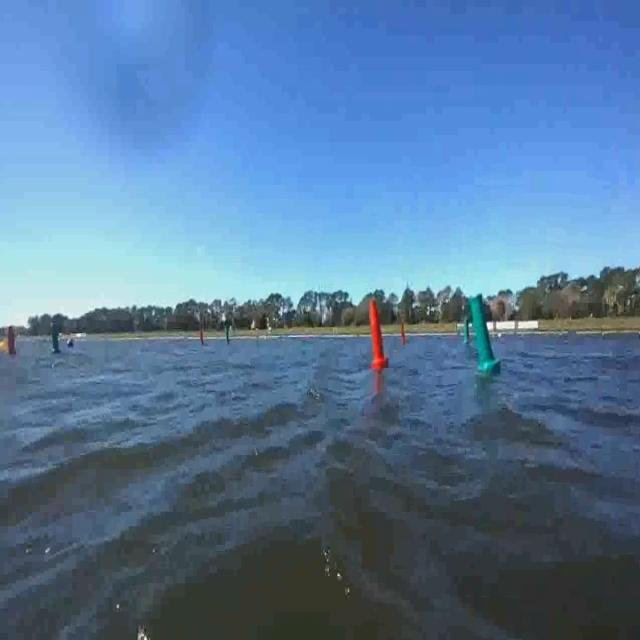black-buoy: (68, 339, 74, 350)
green-column-buoy: (468, 296, 501, 376), (48, 316, 65, 356), (463, 320, 471, 346), (224, 326, 231, 346)
red-column-buoy: (368, 298, 389, 368), (5, 323, 18, 356), (399, 324, 406, 346), (200, 328, 206, 345)
yellow-buoy: (1, 340, 8, 354)
